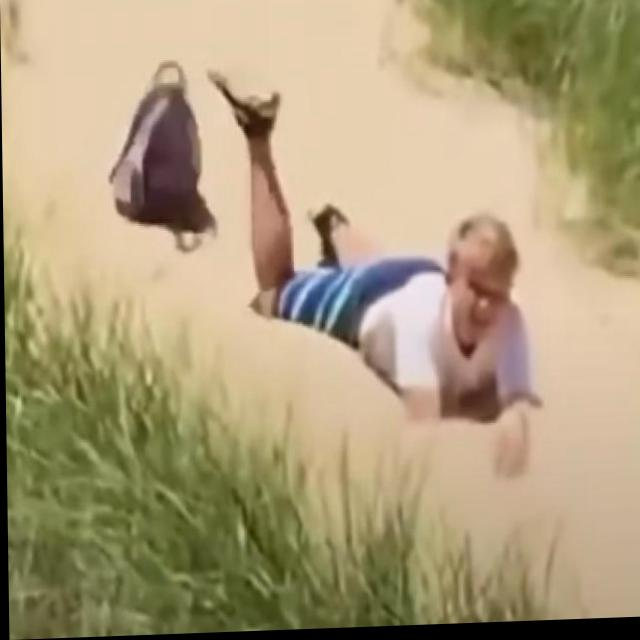fall: (208, 57, 540, 489)
